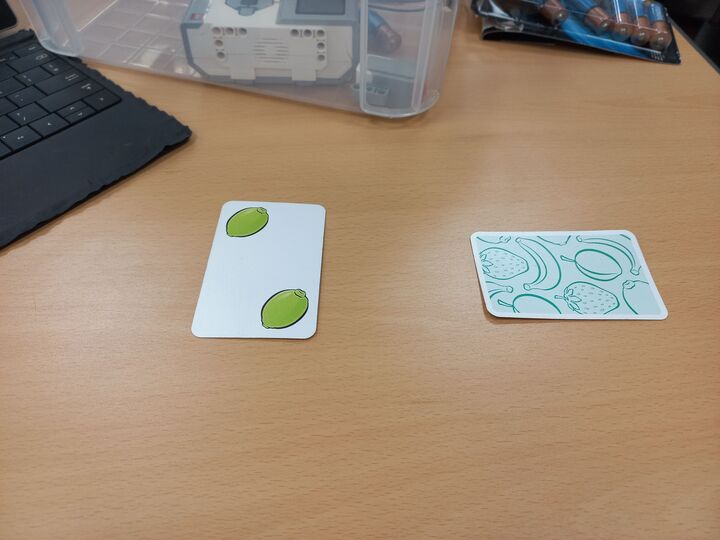lime2: (191, 197, 327, 342)
